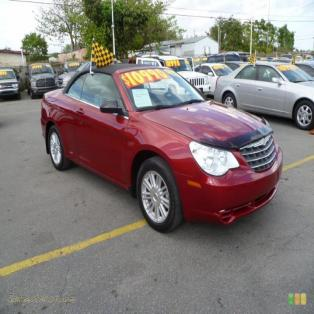Auto: (39, 36, 284, 235)
